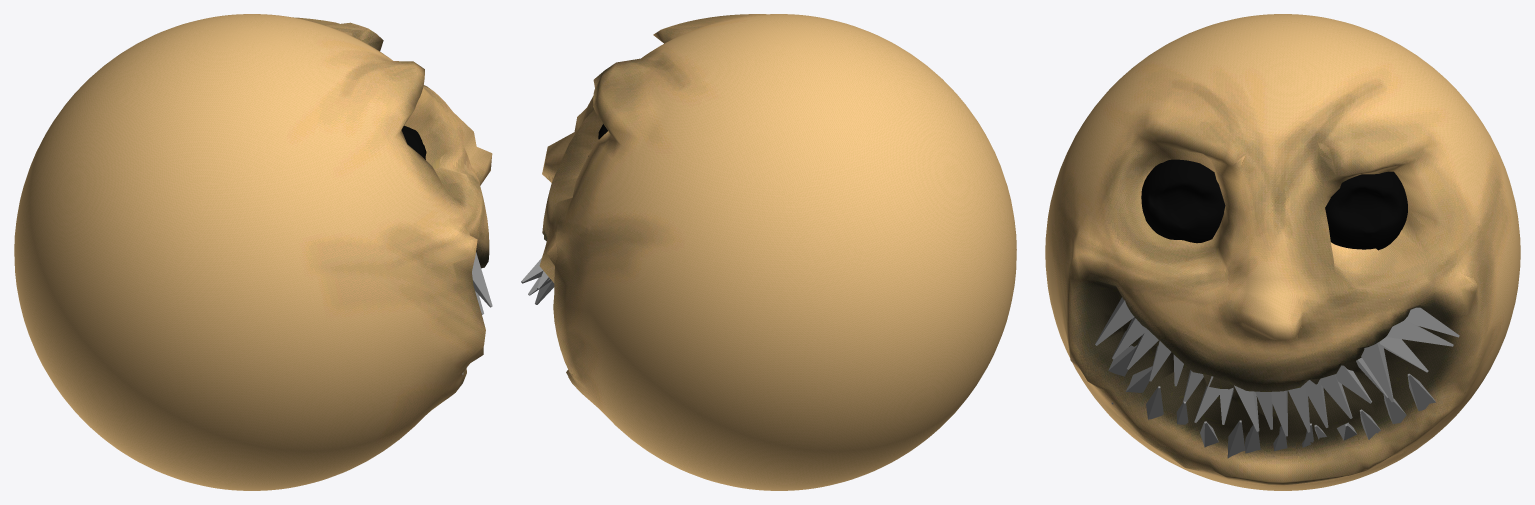
Rendered from dealer temp model export1.glb.
3 renders of one model, left to right at view 1: azimuth 30°, elevation 25°; view 2: azimuth 150°, elevation 25°; view 3: azimuth 270°, elevation 25°, orthographic.
Visible parts, largest first — view 1: Sphere; view 2: Sphere; view 3: Sphere.
Boxes of the visible parts, x1,y1,x2,y2 form: Sphere: (14,14,492,490); Sphere: (521,14,1016,490); Sphere: (1045,14,1520,490).
Bounding box in the file's own units: 2.13 × 2 × 1.99.
Materials: 3 (1 with a texture image).
